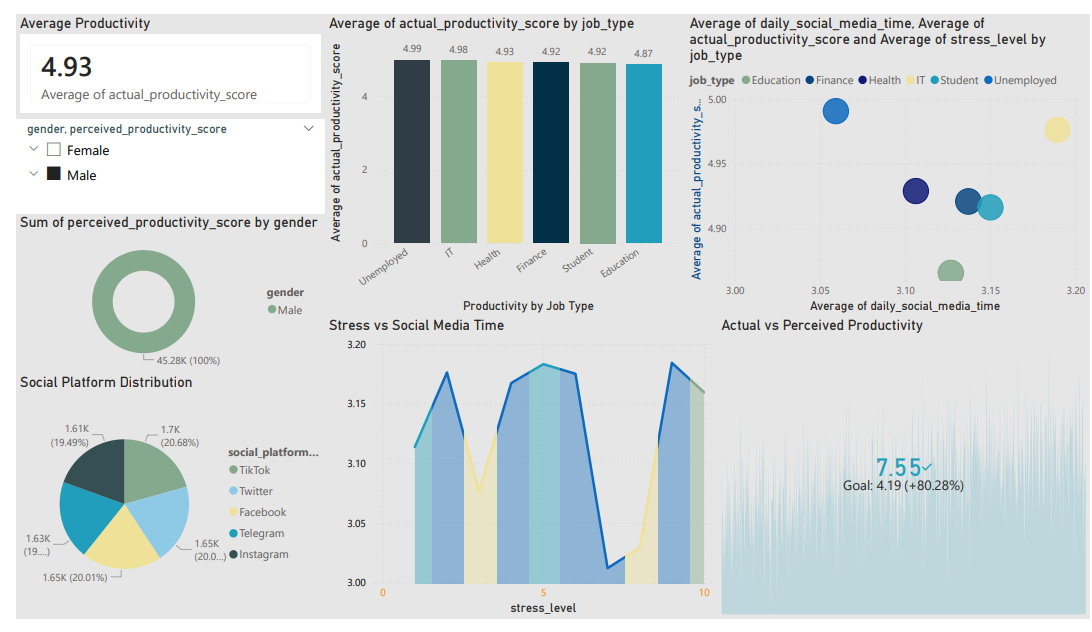

Layout of this report page (visuals, bound fields, positions):
{"tool":"powerbi","page":{"name":"Overview","canvas":[1280,720],"ordinal":0},"visuals":[{"type":"actionButton","box":[0,0,100,40],"z":0},{"type":"slicer","fields":{"Values":["social_media_vs_productivity.gender","social_media_vs_productivity.perceived_productivity_score"]},"box":[203.3,50,165,131.7],"z":2000},{"type":"cardVisual","title":"Average Productivity","fields":{"Data":["Avg(social_media_vs_productivity.actual_productivity_score)"]},"box":[0,50,203.3,131.7],"z":3000},{"type":"clusteredColumnChart","fields":{"Y":["Avg(social_media_vs_productivity.actual_productivity_score)"],"Category":["social_media_vs_productivity.job_type"]},"box":[368.5,39.7,417.6,283.5],"z":4000},{"type":"pieChart","title":"Social Platform Distribution","fields":{"Category":["social_media_vs_productivity.social_platform_preference"],"Y":["CountNonNull(social_media_vs_productivity.social_platform_preference)"]},"box":[0,450,367.5,270],"z":5000},{"type":"lineChart","title":"Stress vs Social Media Time","fields":{"Y":["Avg(social_media_vs_productivity.daily_social_media_time)"],"Category":["social_media_vs_productivity.stress_level"]},"box":[367.5,360,467.5,360],"z":6000},{"type":"scatterChart","fields":{"X":["Avg(social_media_vs_productivity.daily_social_media_time)"],"Y":["Avg(social_media_vs_productivity.actual_productivity_score)"],"Size":["Avg(social_media_vs_productivity.stress_level)"],"Series":["social_media_vs_productivity.job_type"]},"box":[797.5,39.7,481.9,319.4],"z":7000},{"type":"kpi","title":"Actual vs Perceived Productivity","fields":{"TrendLine":["social_media_vs_productivity.perceived_productivity_score"],"Indicator":["Avg(social_media_vs_productivity.actual_productivity_score)"],"Goal":["Sum(social_media_vs_productivity.daily_social_media_time)"]},"box":[835,387.5,445,332.5],"z":8000},{"type":"donutChart","fields":{"Category":["social_media_vs_productivity.gender"],"Y":["Sum(social_media_vs_productivity.perceived_productivity_score)"]},"box":[0,238.3,368.3,190],"z":9000}]}

Visuals, with their boxes in screenshot pixels (x1, y1, x2, y2), scaled from the page's 1280x720 canvas onto the 1092x632 screenshot:
actionButton: {"left": 0, "top": 0, "right": 85, "bottom": 35}
slicer - social_media_vs_productivity.gender x social_media_vs_productivity.perceived_productivity_score: {"left": 173, "top": 44, "right": 314, "bottom": 159}
"Average Productivity" cardVisual: {"left": 0, "top": 44, "right": 173, "bottom": 159}
clusteredColumnChart - Avg(social_media_vs_productivity.actual_productivity_score) x social_media_vs_productivity.job_type: {"left": 314, "top": 35, "right": 671, "bottom": 284}
"Social Platform Distribution" pieChart: {"left": 0, "top": 395, "right": 314, "bottom": 631}
"Stress vs Social Media Time" lineChart: {"left": 314, "top": 316, "right": 712, "bottom": 631}
scatterChart - Avg(social_media_vs_productivity.daily_social_media_time) x Avg(social_media_vs_productivity.actual_productivity_score): {"left": 680, "top": 35, "right": 1091, "bottom": 315}
"Actual vs Perceived Productivity" kpi: {"left": 712, "top": 340, "right": 1091, "bottom": 631}
donutChart - social_media_vs_productivity.gender x Sum(social_media_vs_productivity.perceived_productivity_score): {"left": 0, "top": 209, "right": 314, "bottom": 376}
